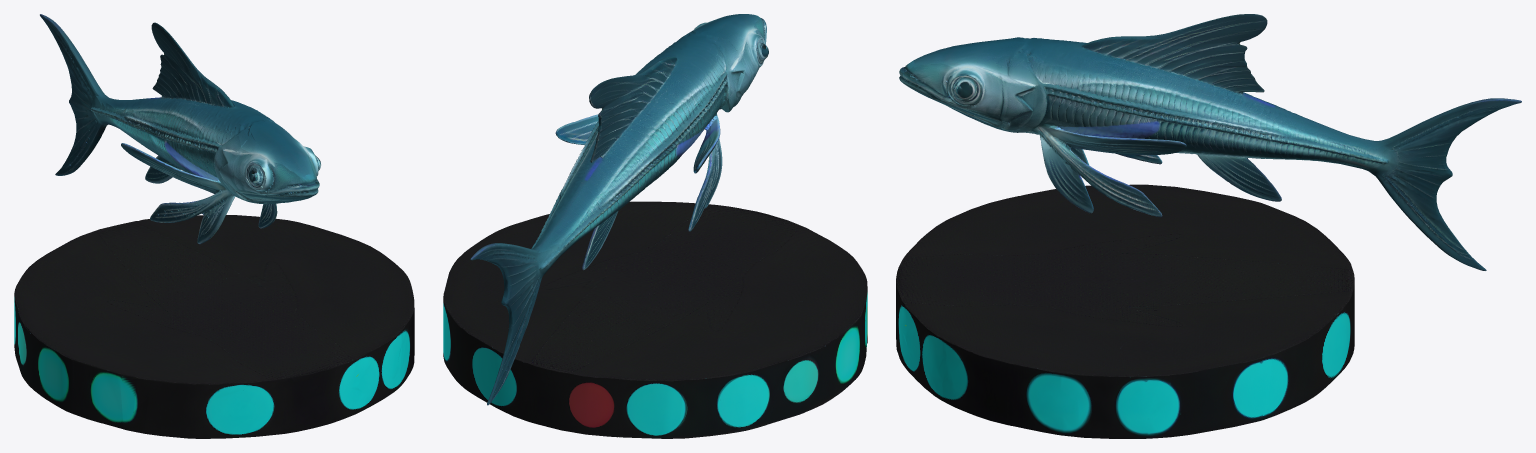
Rendered from fish_herring.glb.
The picture shows the model from 3 angles, left to right: view 1: azimuth 30°, elevation 25°; view 2: azimuth 150°, elevation 25°; view 3: azimuth 270°, elevation 25°; orthographic projection. The views are drawn at different scales.
Bounding box in the file's own units: 1.38 × 1.1 × 1.9.
1 material, 1 textured.
